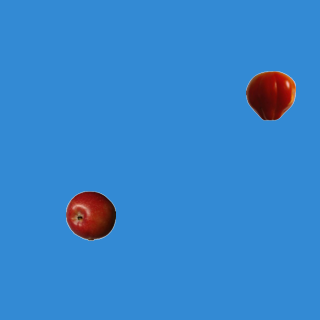Apple Braeburn: (65, 190, 115, 240)
Tomato 1: (245, 70, 295, 120)
